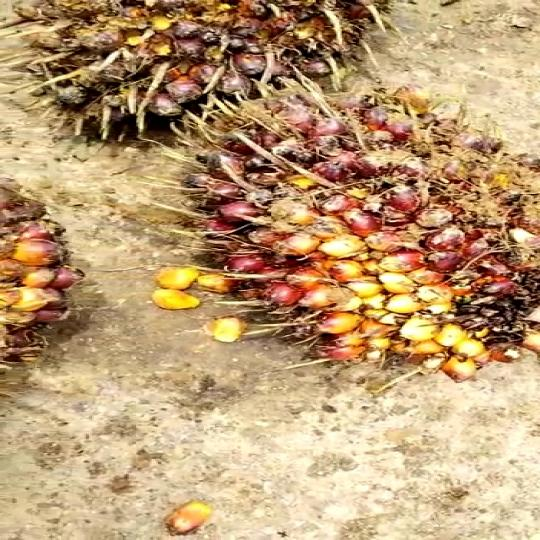masak: (160, 93, 540, 369)
